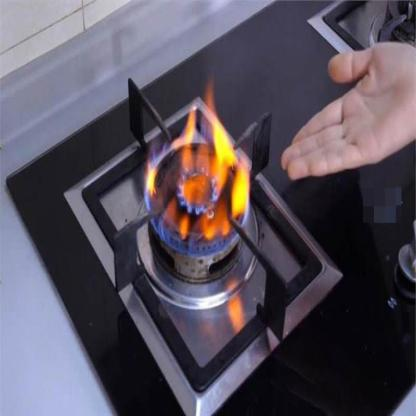fire: (145, 79, 253, 257)
